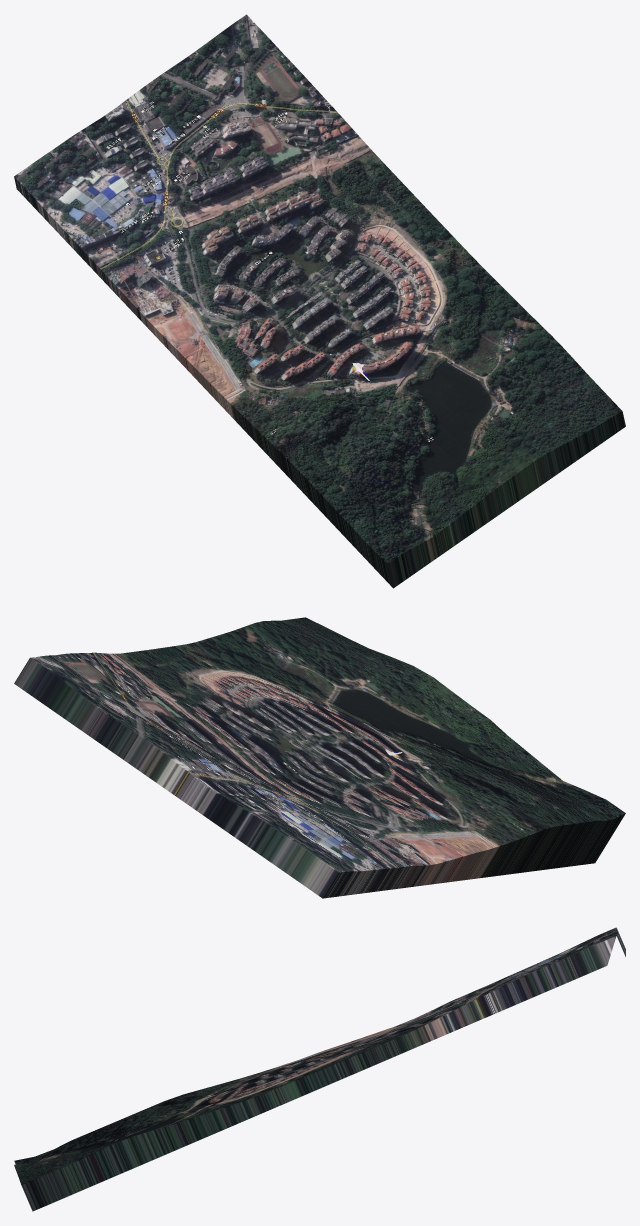
3 views of the same model, one above another, from view 1: azimuth 30°, elevation 25°; view 2: azimuth 150°, elevation 25°; view 3: azimuth 270°, elevation 25° (orthographic). The views are drawn at different scales.
Visible parts, largest first — view 1: 1_0_16; view 2: 1_0_16; view 3: 1_0_16.
Part boxes in pixels (bbox=[...]): 1_0_16: bbox=[14, 14, 625, 588]; 1_0_16: bbox=[14, 617, 625, 898]; 1_0_16: bbox=[14, 927, 625, 1211].
Bounding box in the file's own units: 723 × 701 × 1154.
1 material, 1 textured.
